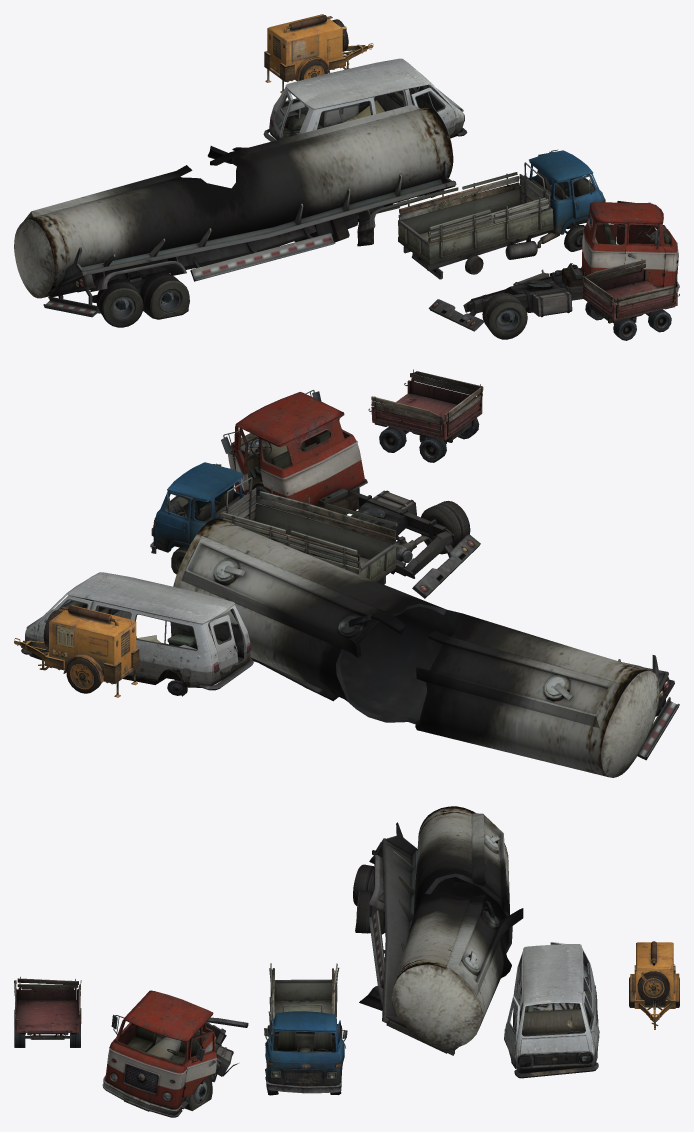
File: wrecked_cars_2.glb
3 views of the same model, one above another, from view 1: azimuth 30°, elevation 25°; view 2: azimuth 150°, elevation 25°; view 3: azimuth 270°, elevation 25° (orthographic). The views are drawn at different scales.
Parts seen in each view (by area): view 1: tanker001a_reference.smd_1, truck001a_reference.smd_0, truck002a_cab_reference.smd_2, van001a_reference.smd_3, wagon001a_reference.smd_4, generatortrailer01_reference.smd_5; view 2: tanker001a_reference.smd_1, truck002a_cab_reference.smd_2, truck001a_reference.smd_0, van001a_reference.smd_3, generatortrailer01_reference.smd_5, wagon001a_reference.smd_4; view 3: tanker001a_reference.smd_1, truck002a_cab_reference.smd_2, van001a_reference.smd_3, truck001a_reference.smd_0, wagon001a_reference.smd_4, generatortrailer01_reference.smd_5.
Part boxes in pixels (x1,y1,x2,y2): tanker001a_reference.smd_1: (14,104,456,327); truck001a_reference.smd_0: (397,149,605,279); truck002a_cab_reference.smd_2: (428,201,679,339); van001a_reference.smd_3: (263,58,467,141); wagon001a_reference.smd_4: (582,259,679,340); generatortrailer01_reference.smd_5: (264,14,373,93); tanker001a_reference.smd_1: (173,518,679,777); truck002a_cab_reference.smd_2: (221,390,480,598); truck001a_reference.smd_0: (150,462,397,584); van001a_reference.smd_3: (21,572,253,696); generatortrailer01_reference.smd_5: (14,605,139,697); wagon001a_reference.smd_4: (368,369,483,462); tanker001a_reference.smd_1: (353,806,523,1055); truck002a_cab_reference.smd_2: (102,990,248,1117); van001a_reference.smd_3: (504,942,599,1078); truck001a_reference.smd_0: (264,963,347,1095); wagon001a_reference.smd_4: (14,976,81,1047); generatortrailer01_reference.smd_5: (629,941,679,1029).
Size of the model in its own units: 12.64 by 2.96 by 14.76.
6 materials, 6 textured.
